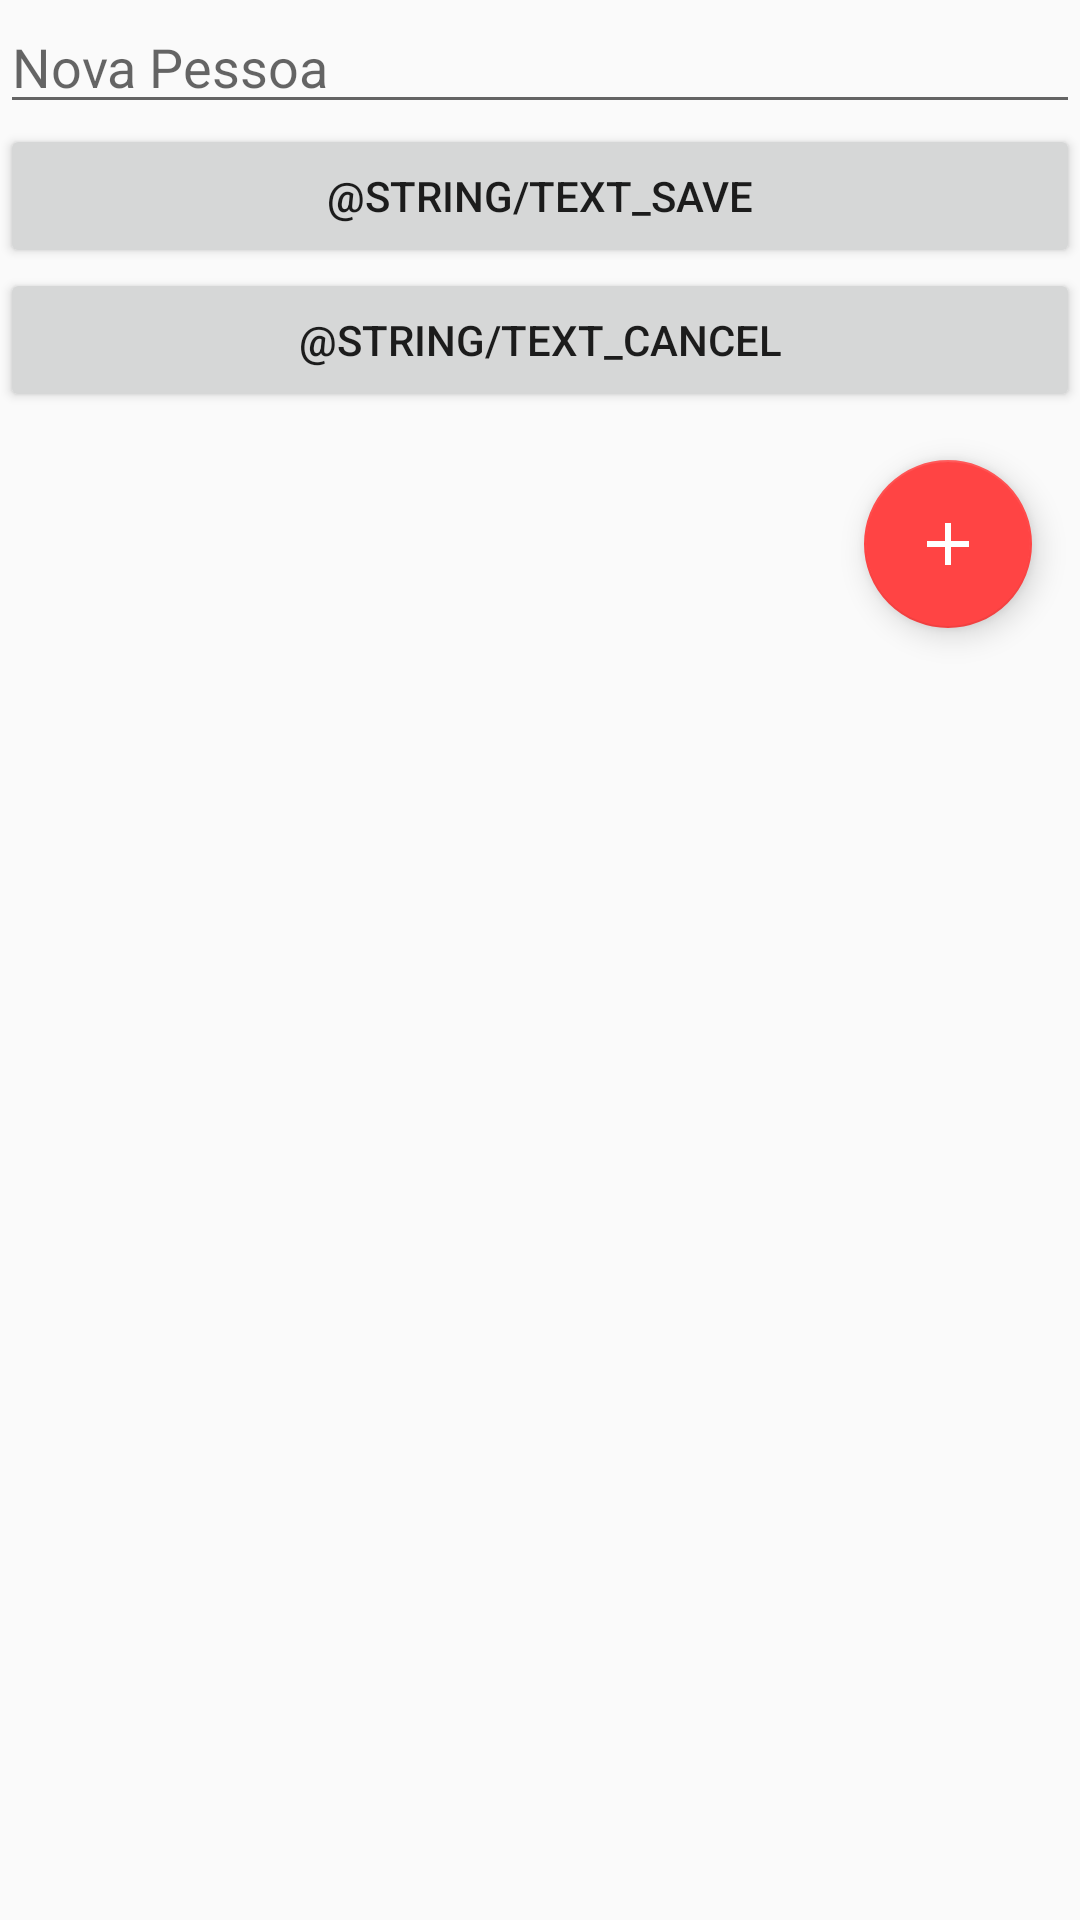

Icon click points for this 1080*1920 phone screenshot, format [x,y]:
add circle: [948,544]
